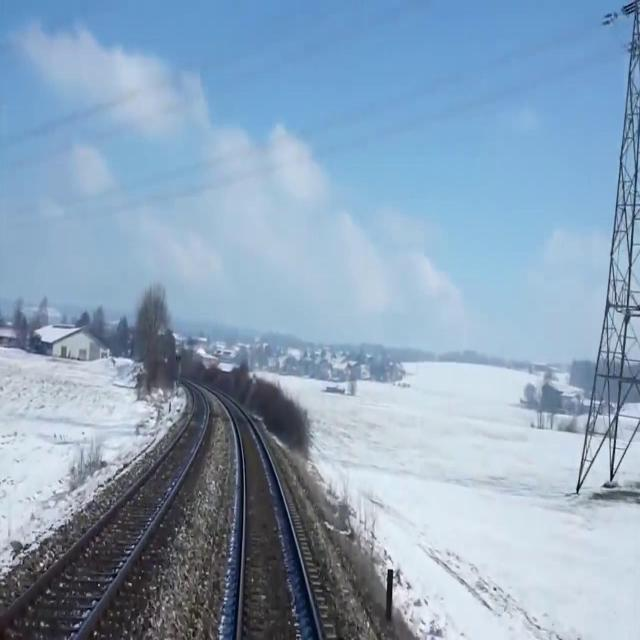rail-track: (0, 391, 206, 639), (227, 401, 316, 639)
